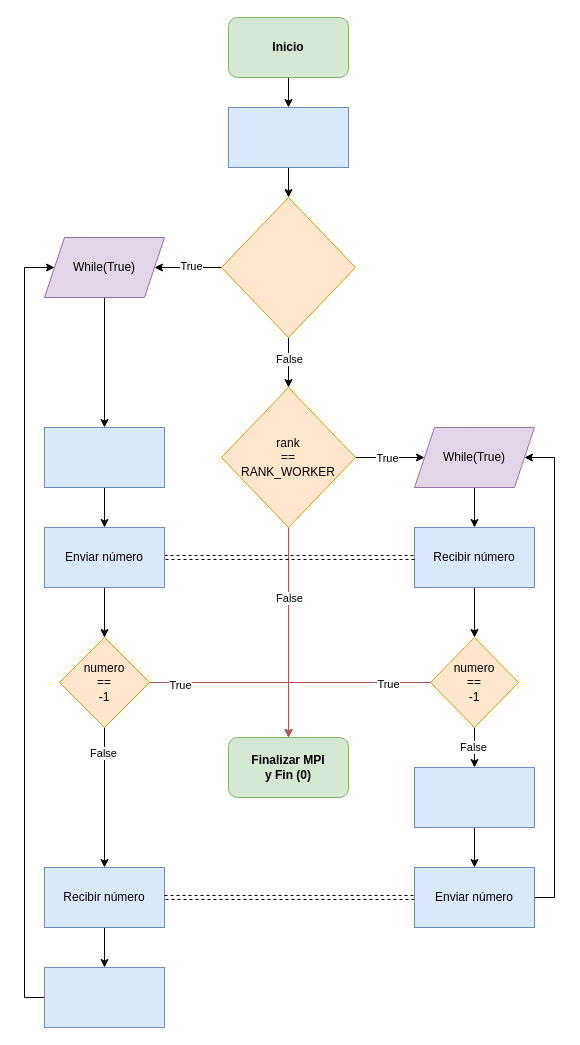
Image size: 580x1045. Some labels were removed from this diagram. The centre of each missing label's shape, as x and y in pixels:
"Calcular factorial" belongs at point 474,797.
"Inicializar MPI" belongs at point 288,137.
"Introducir número" belongs at point 104,457.
"Mostrar Resultado" belongs at point 104,997.
"rank == RANK_MASTER" belongs at point 288,267.
